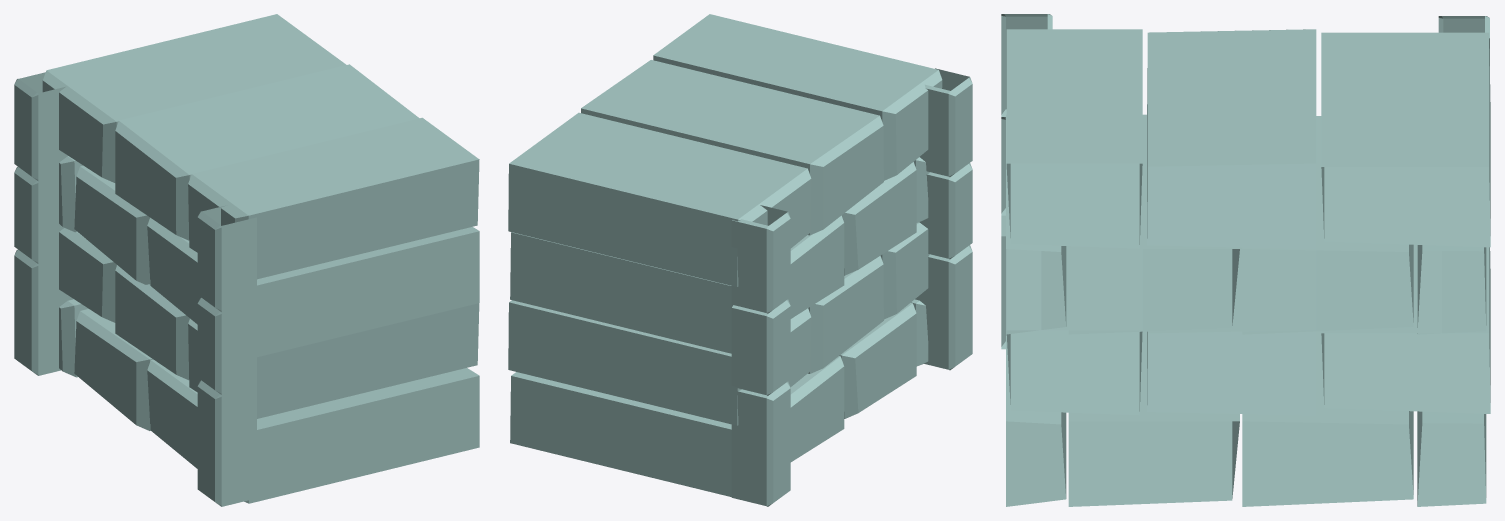
File: PuenteParte2.fbx
3 views of the same model, side by side, from view 1: azimuth 30°, elevation 25°; view 2: azimuth 150°, elevation 25°; view 3: azimuth 270°, elevation 25° (orthographic). The views are drawn at different scales.
Visible parts, largest first — view 1: polySurface3525; view 2: polySurface3525; view 3: polySurface3525.
Boxes of the visible parts, left/top/right/bottom form: polySurface3525: left=14, top=14, right=479, bottom=506; polySurface3525: left=508, top=14, right=972, bottom=506; polySurface3525: left=1001, top=14, right=1490, bottom=506.
Bounding box in the file's own units: 1.09 × 1.13 × 1.46.
